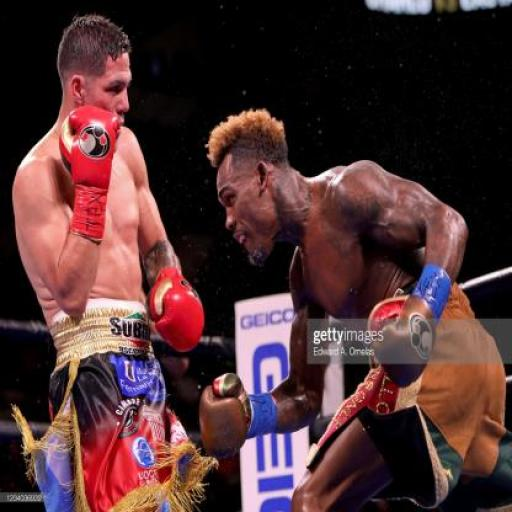Fighting: (0, 8, 510, 512)
